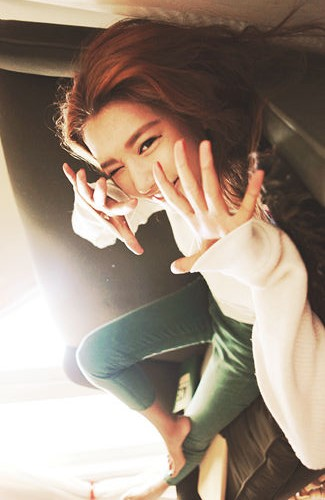face: (84, 91, 182, 233)
